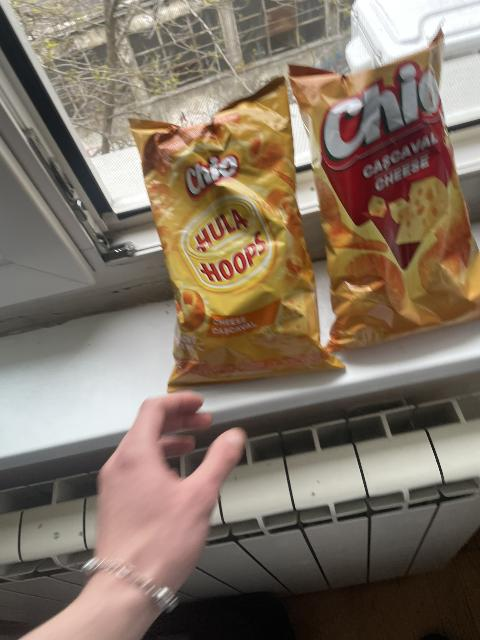Chio Cascaval 125g: (290, 41, 474, 351)
Chio Hula Hoops Cheese 70g: (130, 80, 340, 380)
